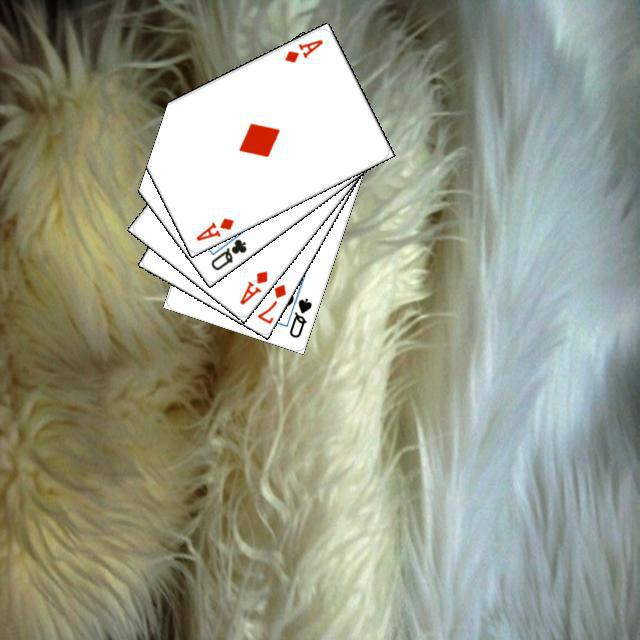7d: (252, 279, 288, 325)
Ad: (234, 266, 270, 307), (191, 213, 236, 243), (280, 34, 324, 64)
Qc: (205, 226, 249, 272)
Qs: (284, 293, 314, 339)
